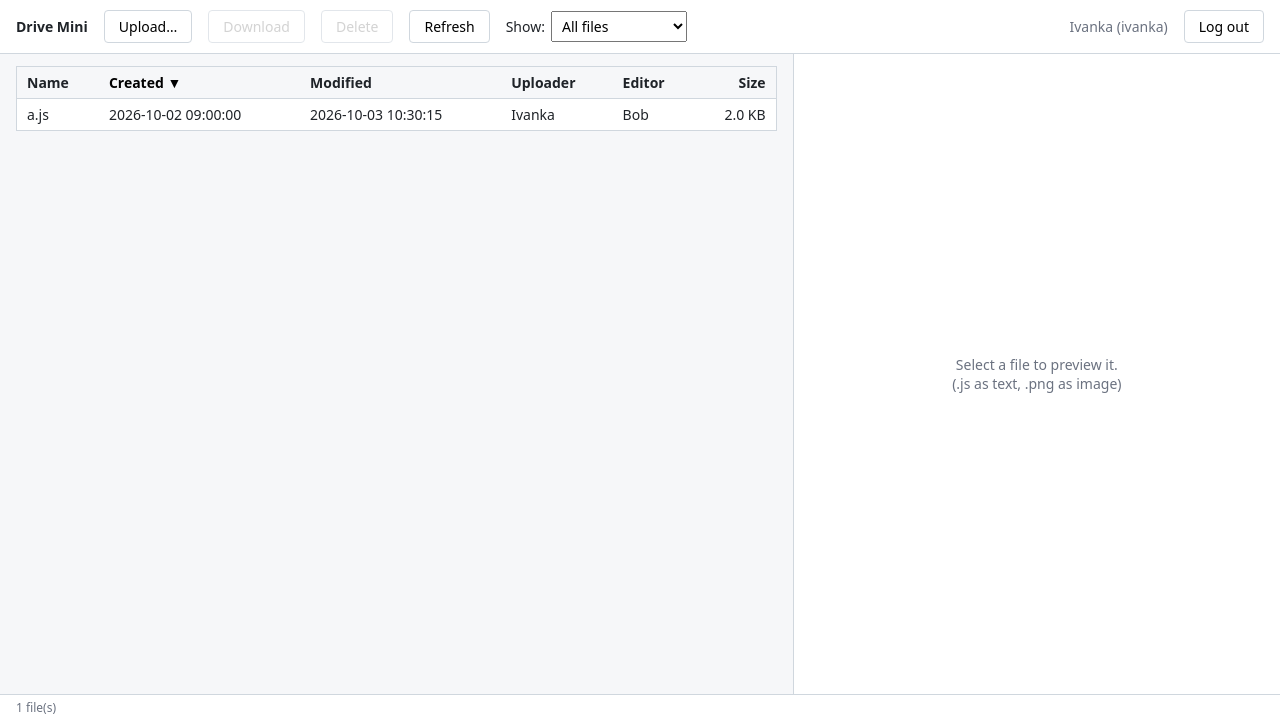
it: Refresh loads the list again
The image size is (1280, 720).
Expected: the text "a.js" is shown, x1=16 y1=98 x2=99 y2=130
Expected: the text "b.png" is not shown
Click the button "Refresh": (450, 26) x1=410 y1=10 x2=490 y2=43
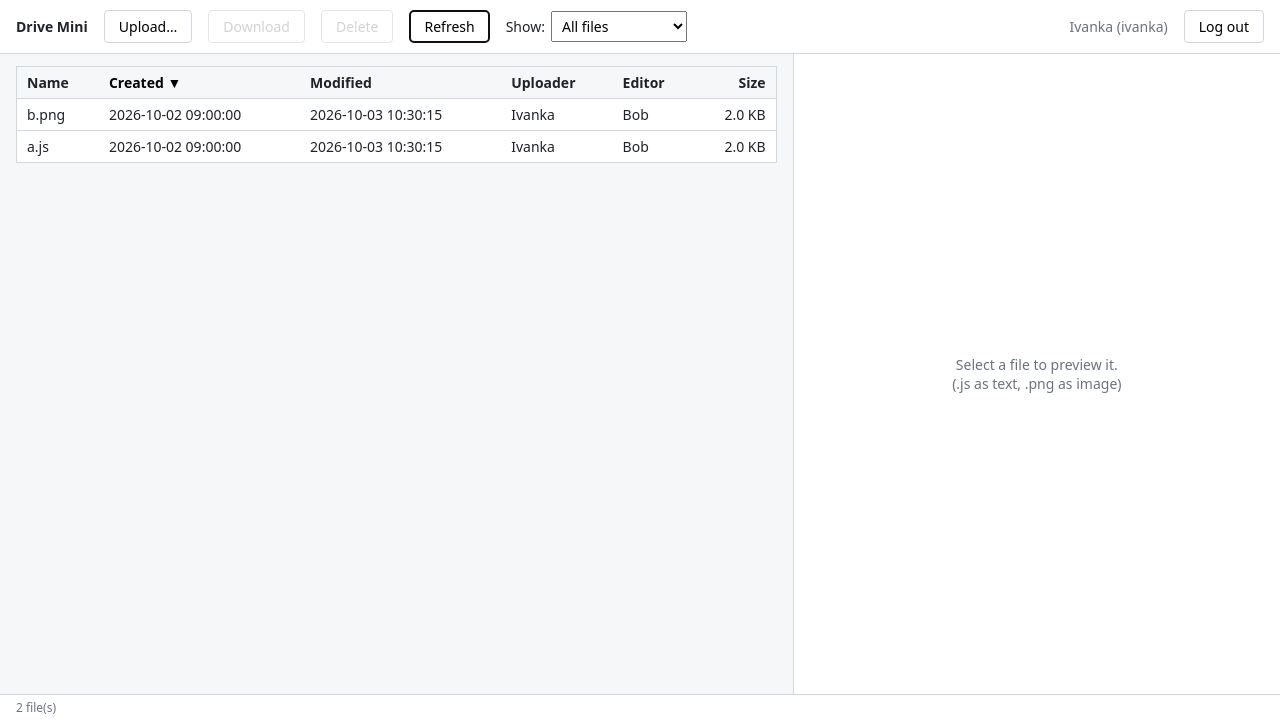
Now the text "b.png" is shown, box x1=16 y1=98 x2=99 y2=130
Now the text "2 file(s)" is shown, box x1=0 y1=694 x2=1279 y2=719
